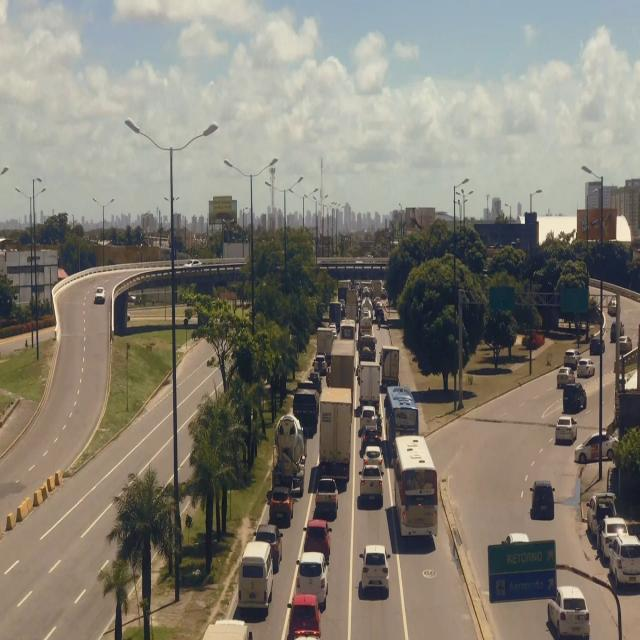Bus: (392, 433, 440, 547), (385, 388, 419, 440)
Car: (237, 540, 273, 614), (546, 585, 590, 639), (573, 428, 620, 465), (362, 542, 390, 604), (295, 553, 330, 595), (611, 536, 640, 586), (290, 591, 320, 637), (357, 463, 386, 509), (528, 478, 557, 520), (303, 518, 333, 556), (585, 494, 619, 524), (562, 379, 588, 417), (268, 487, 295, 522), (598, 516, 626, 544), (254, 522, 284, 548), (556, 414, 579, 446), (357, 423, 382, 450), (362, 444, 386, 470), (360, 404, 378, 430), (576, 357, 597, 378), (609, 317, 627, 339), (556, 367, 574, 388), (92, 283, 106, 309), (588, 335, 606, 354), (607, 294, 623, 315), (562, 348, 580, 366), (616, 334, 634, 352)
Truck: (316, 388, 353, 486), (270, 410, 306, 494), (328, 337, 358, 395), (293, 376, 320, 434), (200, 617, 254, 640), (313, 475, 341, 518), (359, 361, 382, 410), (381, 348, 400, 383), (316, 326, 333, 362), (358, 333, 376, 363), (358, 303, 373, 339), (328, 300, 342, 330), (346, 293, 360, 319)
